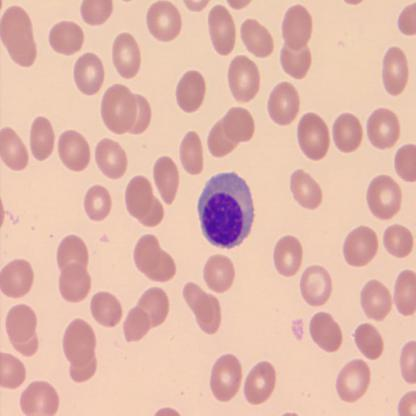NRC: (195, 170, 257, 252)
